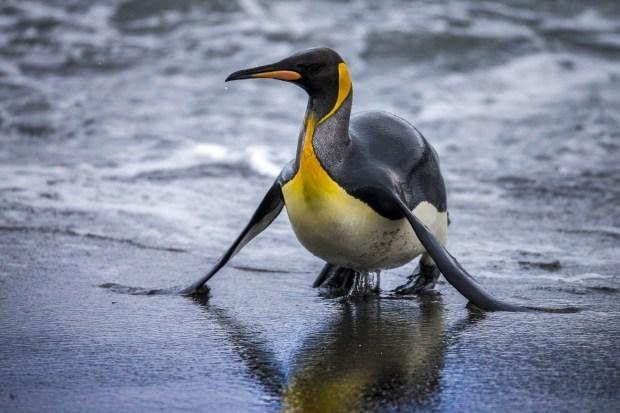Penguin: (180, 47, 577, 311)
